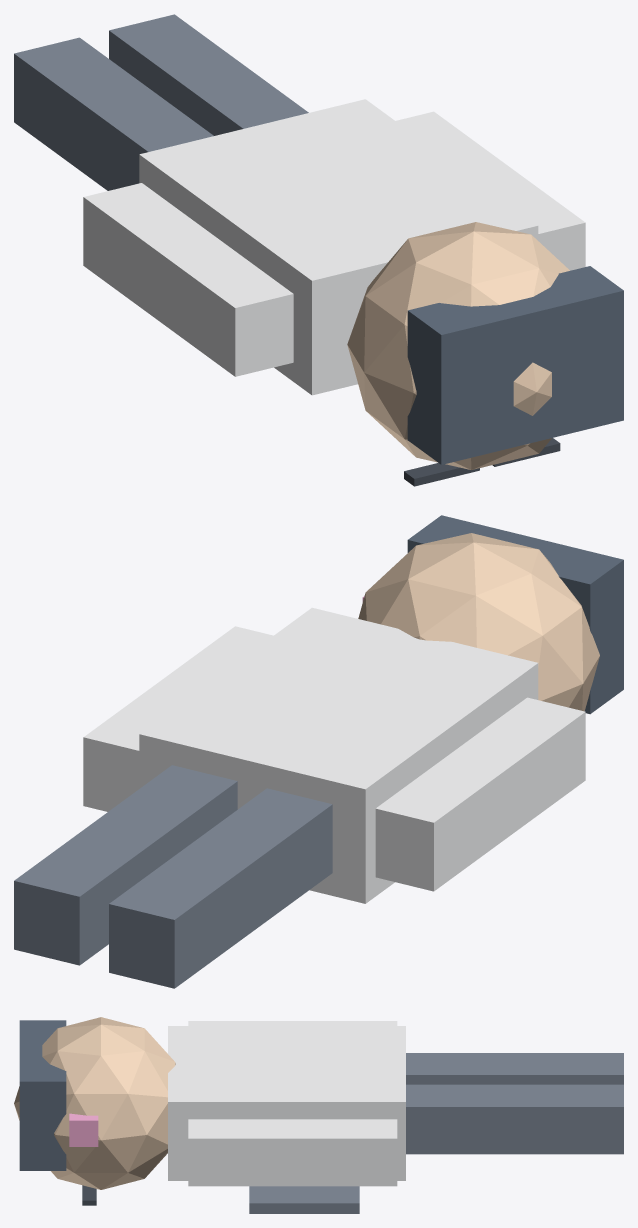
File: researcher_variant_1.glb
The picture shows the model from 3 angles, top to bottom: view 1: azimuth 30°, elevation 25°; view 2: azimuth 150°, elevation 25°; view 3: azimuth 270°, elevation 25°; orthographic projection. The views are drawn at different scales.
Visible parts, largest first — view 1: torso_2, hair_6, arm_l_3, head_5, leg_l_0, leg_r_1, arm_r_4, glasses_l_8; view 2: torso_2, leg_l_0, arm_l_3, head_5, leg_r_1, arm_r_4, hair_6; view 3: torso_2, head_5, leg_r_1, arm_r_4, leg_l_0, hair_6, tablet_7, arm_l_3, earring_or_badge_10.
Boxes of the visible parts, x1=… form: torso_2: x1=139, y1=99, x2=538, y2=395; hair_6: x1=407, y1=266, x2=623, y2=464; arm_l_3: x1=83, y1=183, x2=293, y2=376; head_5: x1=347, y1=222, x2=569, y2=469; leg_l_0: x1=14, y1=37, x2=213, y2=190; leg_r_1: x1=109, y1=14, x2=308, y2=135; arm_r_4: x1=396, y1=111, x2=585, y2=270; glasses_l_8: x1=404, y1=463, x2=479, y2=486; torso_2: x1=139, y1=607, x2=538, y2=903; leg_l_0: x1=109, y1=788, x2=332, y2=988; arm_l_3: x1=375, y1=697, x2=585, y2=891; head_5: x1=358, y1=533, x2=599, y2=711; leg_r_1: x1=14, y1=765, x2=237, y2=965; arm_r_4: x1=83, y1=626, x2=273, y2=811; hair_6: x1=407, y1=515, x2=623, y2=714; torso_2: x1=168, y1=1026, x2=405, y2=1180; head_5: x1=14, y1=1017, x2=175, y2=1189; leg_r_1: x1=406, y1=1084, x2=623, y2=1154; arm_r_4: x1=188, y1=1119, x2=397, y2=1186; leg_l_0: x1=406, y1=1053, x2=623, y2=1084; hair_6: x1=19, y1=1020, x2=66, y2=1170; tablet_7: x1=249, y1=1186, x2=359, y2=1213; arm_l_3: x1=188, y1=1021, x2=397, y2=1025; earring_or_badge_10: x1=69, y1=1113, x2=98, y2=1146.
Bounding box in the file's own units: 0.96 × 0.6 × 2.1.
